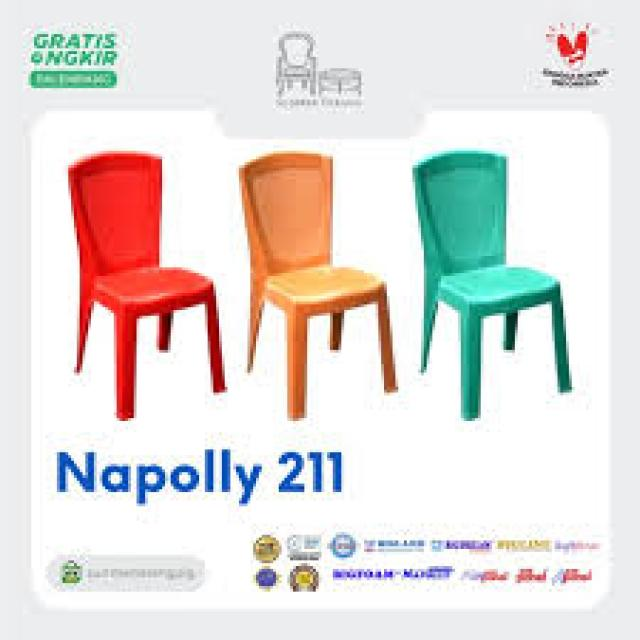chair: (392, 154, 606, 426), (53, 147, 241, 419), (238, 138, 376, 420)
